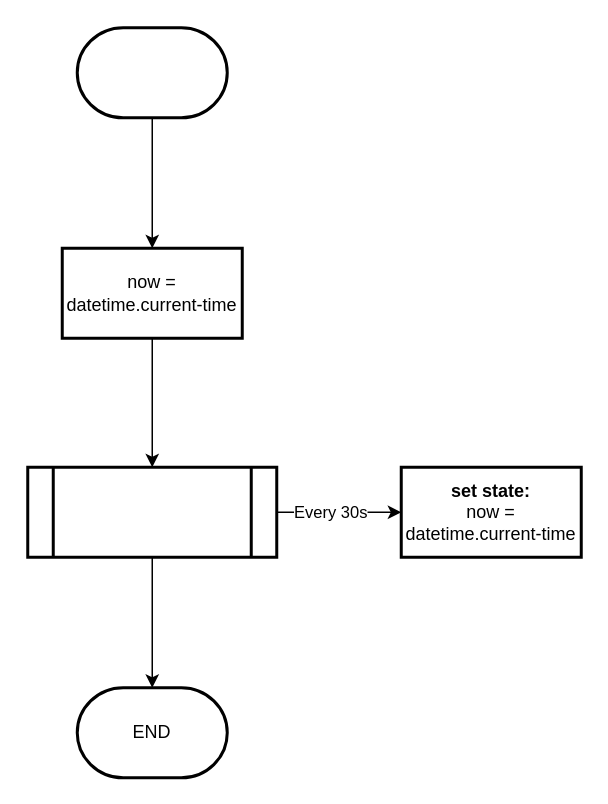
Some shapes in this 608 by 804 pixel diagram are drawn without their labels. Each missing label, with the centre of its shape:
On Start: (151,72)
Timer = timer (30 secs): (152,511)
